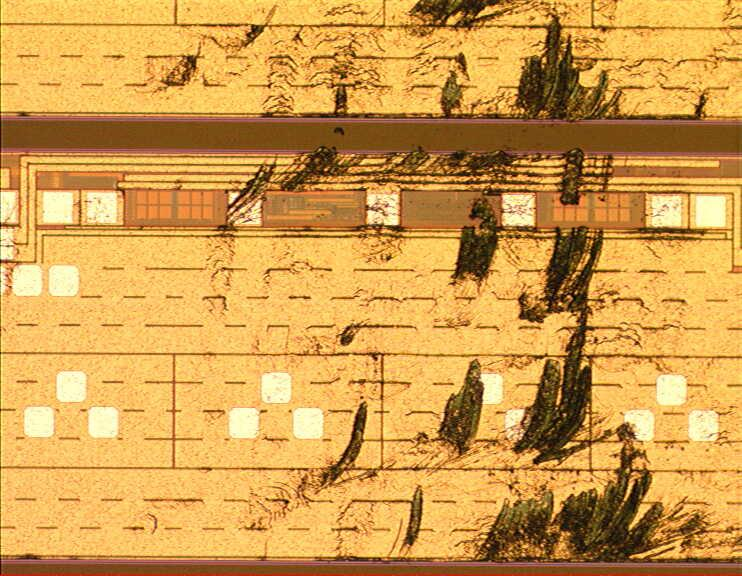SCRATCH: (140, 1, 742, 567)
